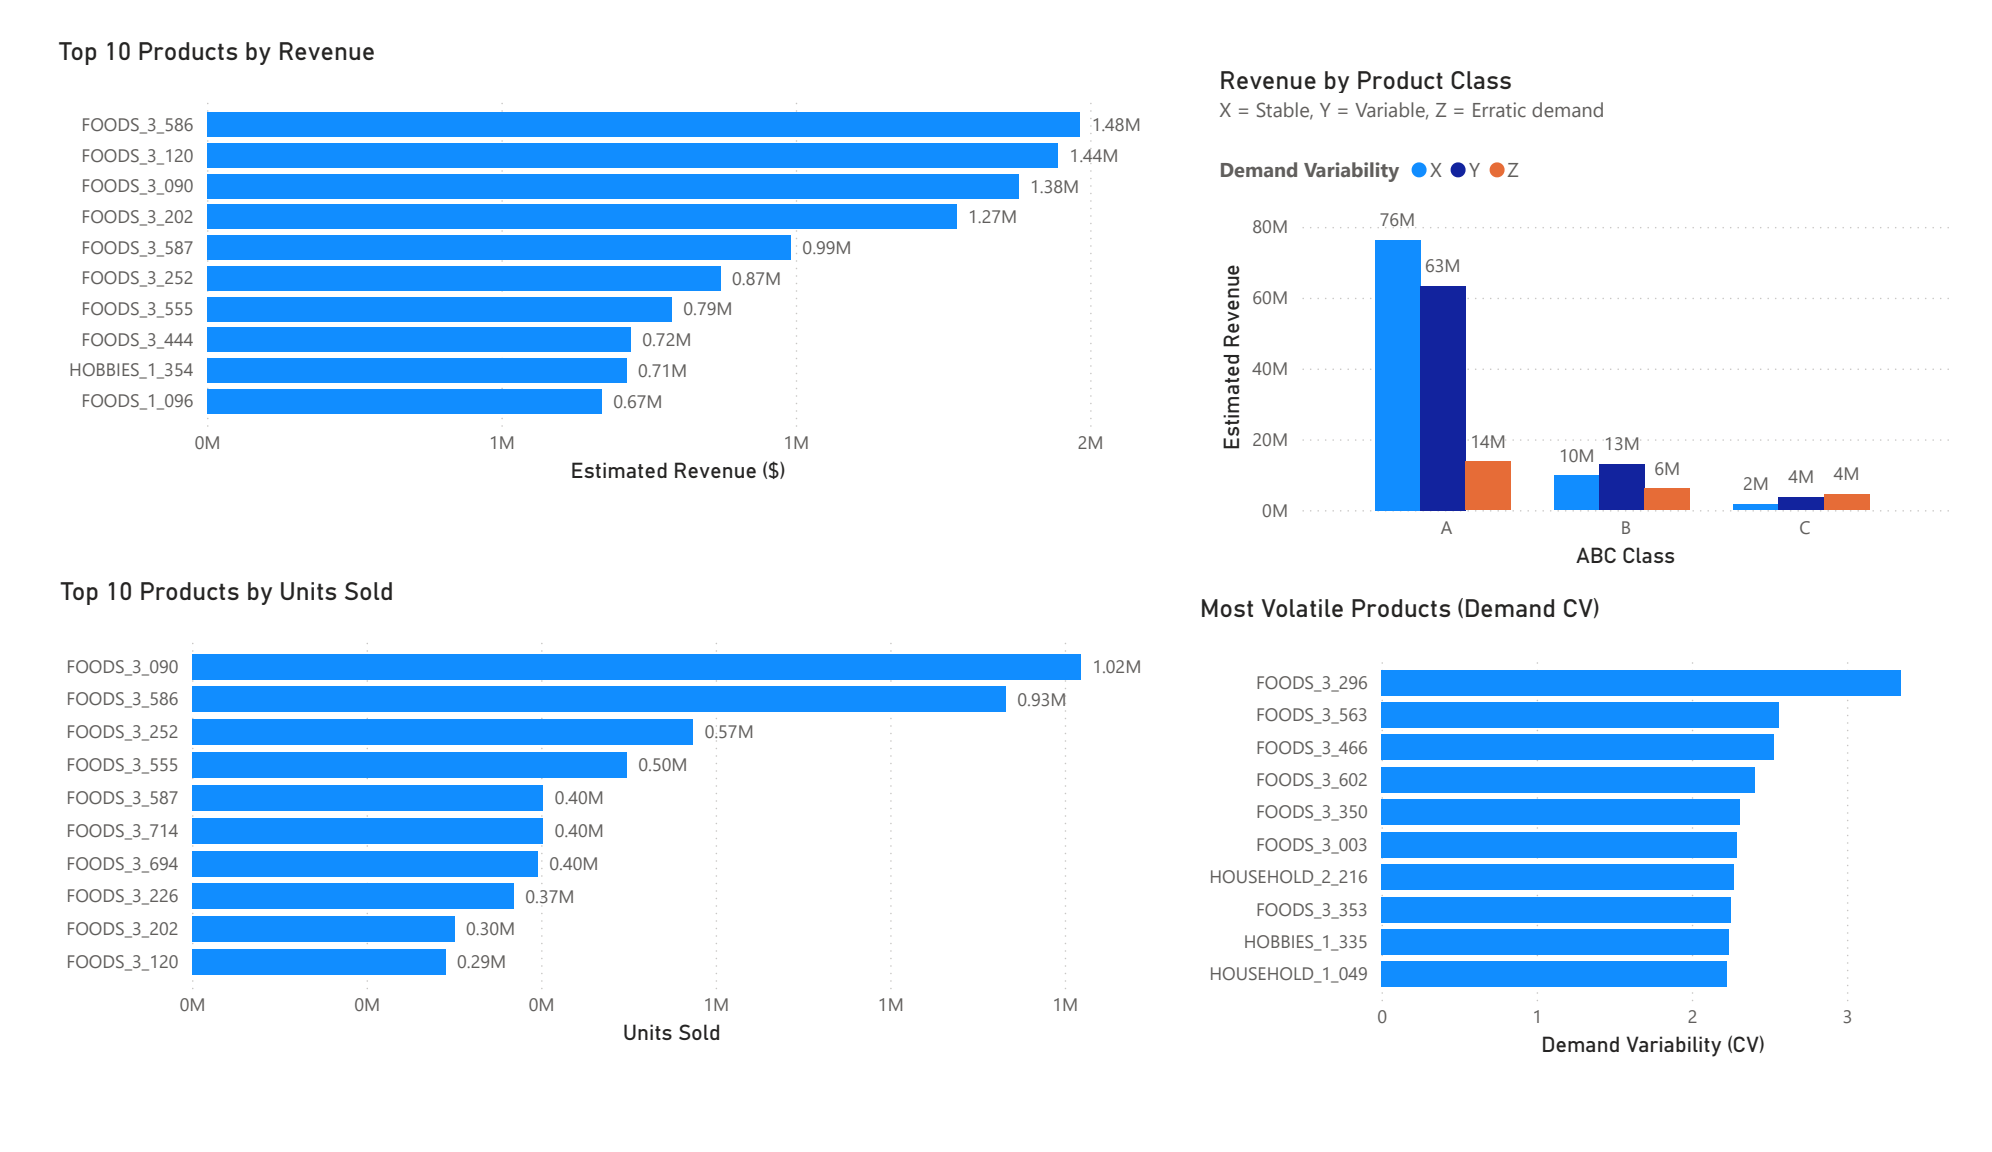

This screenshot's page, from the dashboard's own definition file:
{"tool":"powerbi","page":{"name":"Product Intelligence","canvas":[1280,720],"ordinal":2},"visuals":[{"type":"clusteredBarChart","title":"Top 10 Products by Revenue","fields":{"Category":["top_products_by_revenue.item_id"],"Y":["Sum(top_products_by_revenue.total_estimated_revenue)"]},"box":[10,0,746.2,302.5],"z":0},{"type":"clusteredBarChart","title":"Top 10 Products by Units Sold","fields":{"Category":["top_products_by_revenue.item_id"],"Y":["Sum(top_products_by_revenue.total_units_sold)"]},"box":[11.2,360,746.2,317.5],"z":1000},{"type":"clusteredColumnChart","title":"Revenue by Product Class","fields":{"Category":["product_abc_xyz.abc_class"],"Y":["Sum(product_abc_xyz.total_estimated_revenue)"],"Series":["product_abc_xyz.xyz_class"]},"box":[783.8,18.8,496.2,341.2],"z":2000},{"type":"clusteredBarChart","title":"Most Volatile Products (Demand CV)","fields":{"Category":["product_abc_xyz.item_id"],"Y":["Avg(product_abc_xyz.demand_cv)"]},"box":[771.2,371.2,496.2,315],"z":3000}]}

Visuals, with their boxes in screenshot pixels (x1, y1, x2, y2), scaled from the page's 1280x720 canvas onto the 1992x1152 screenshot:
"Top 10 Products by Revenue" clusteredBarChart: x1=16 y1=0 x2=1177 y2=484
"Top 10 Products by Units Sold" clusteredBarChart: x1=17 y1=576 x2=1179 y2=1084
"Revenue by Product Class" clusteredColumnChart: x1=1220 y1=30 x2=1991 y2=576
"Most Volatile Products (Demand CV)" clusteredBarChart: x1=1200 y1=594 x2=1972 y2=1098
